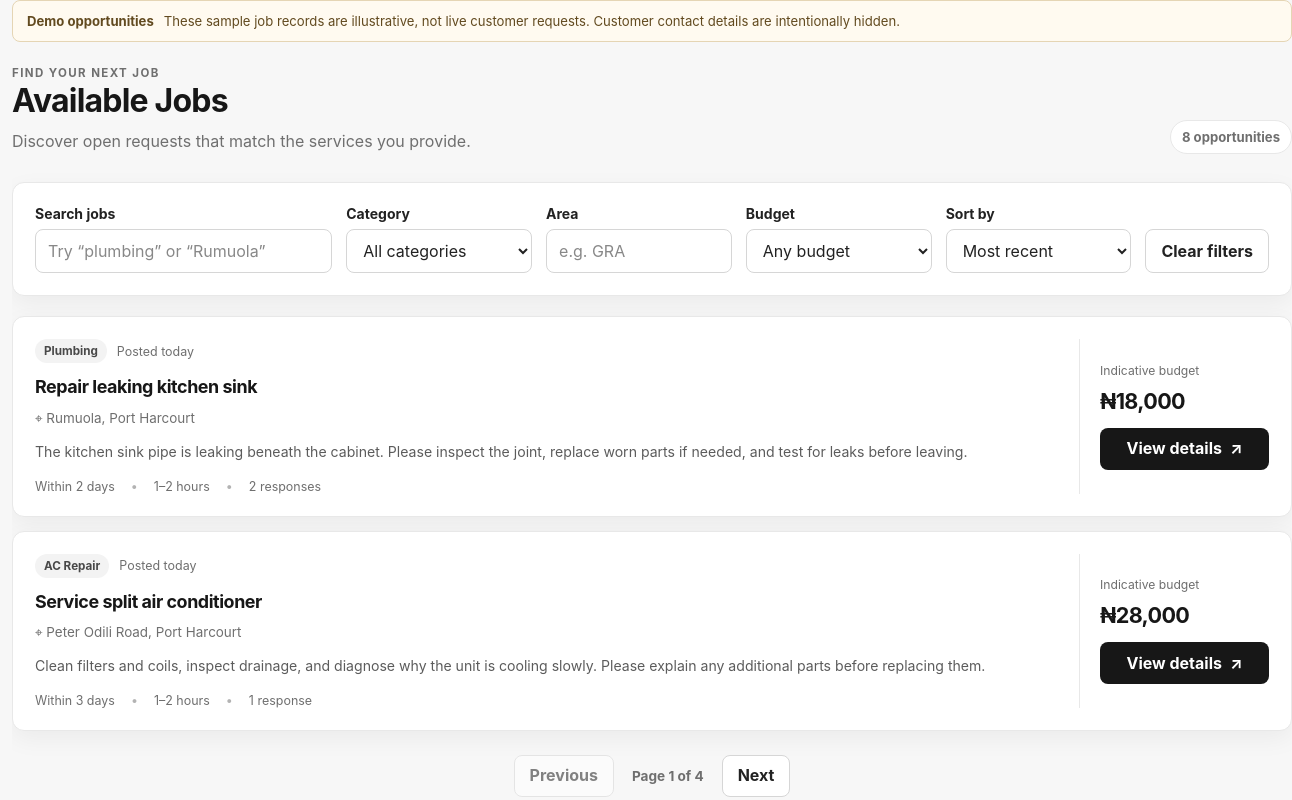
Test: available jobs discovery › paginates results and disables navigation at the ends
Expected: the text "Page 1 of 4" is shown, [632, 768, 704, 784]
Expected: the button "Previous" is disabled, [514, 755, 614, 797]
Click the button "Next": (756, 776) [722, 755, 790, 797]
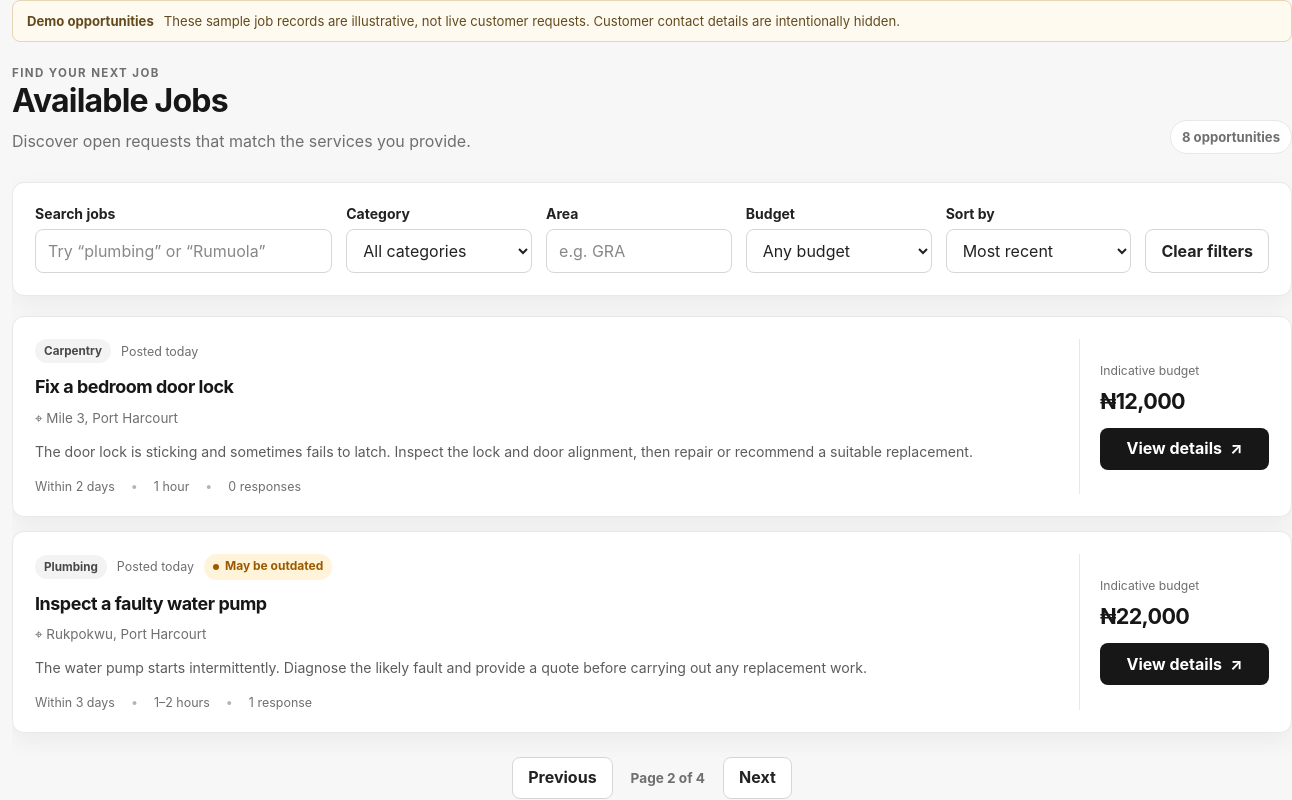
Expected: the text "Page 2 of 4" is shown, [631, 770, 705, 786]
Expected: the heading "Fix a bedroom door lock" is shown, [35, 376, 234, 397]
